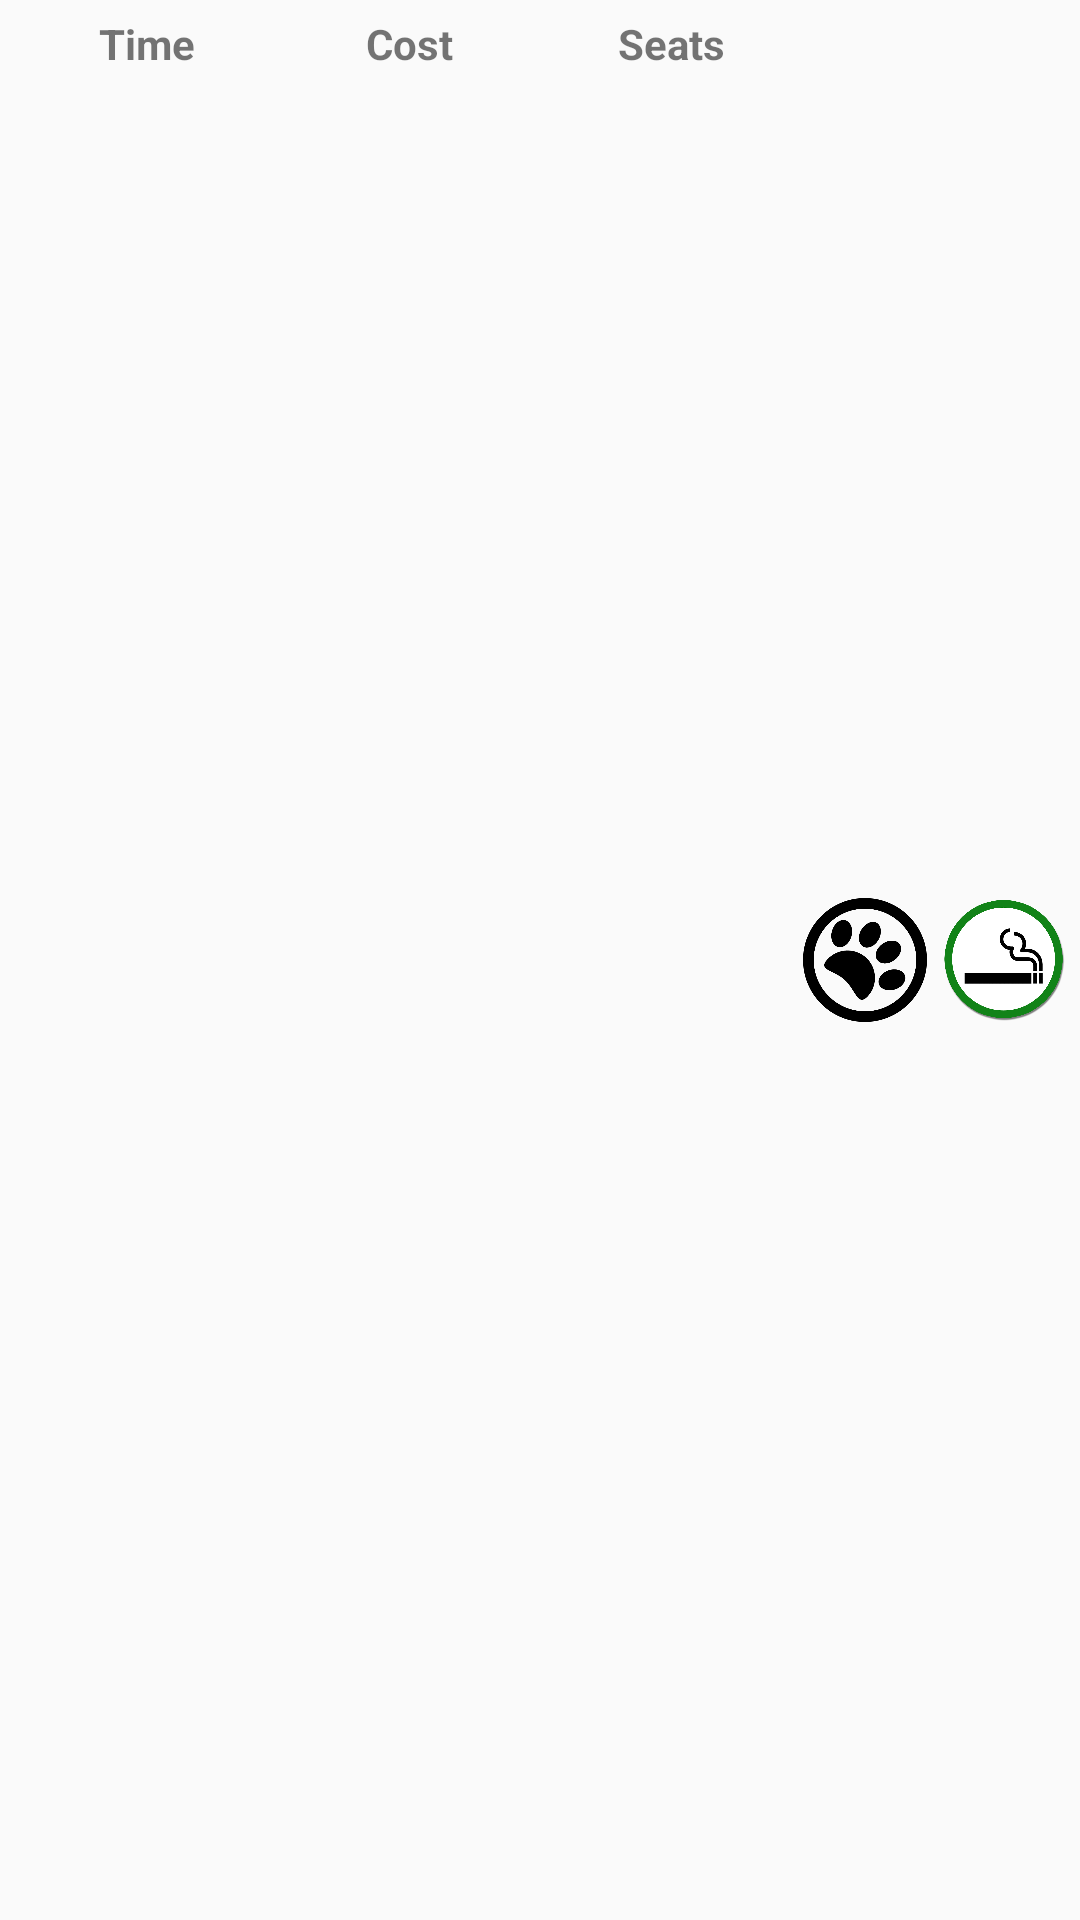

Where icons sit on this 1080x1920 app screen, as {"left": x1, "top": y1, "right": x2, "bottom": y2}:
pets: {"left": 803, "top": 898, "right": 927, "bottom": 1022}
smoke: {"left": 944, "top": 900, "right": 1064, "bottom": 1020}
